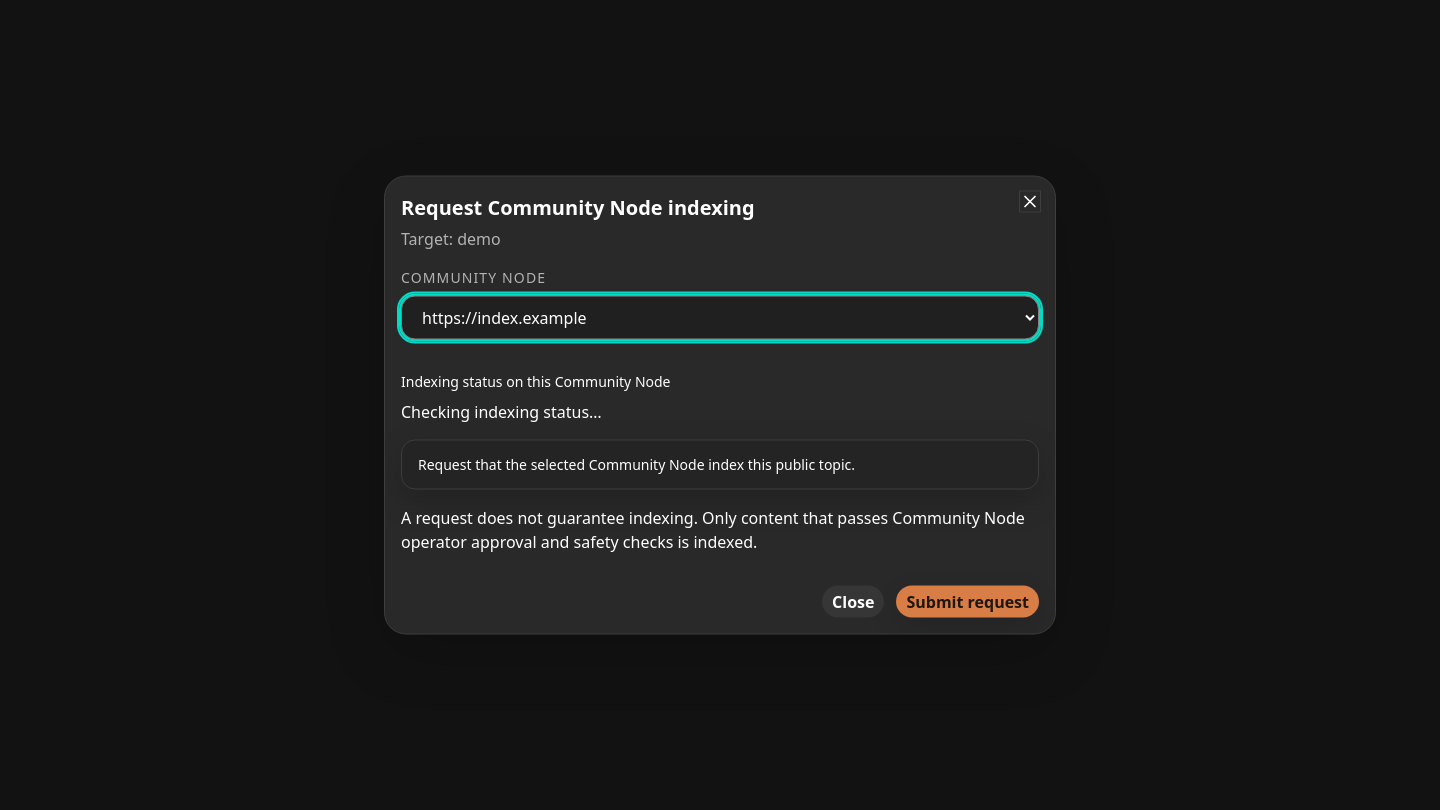
Test case: public topic request omits private channel confirmation and capability
Expected: the text "A request does not guarantee indexing" is shown, [401,506,1025,552]
Click the button "Submit request". click: (968, 602)
box: [896,586,1039,618]
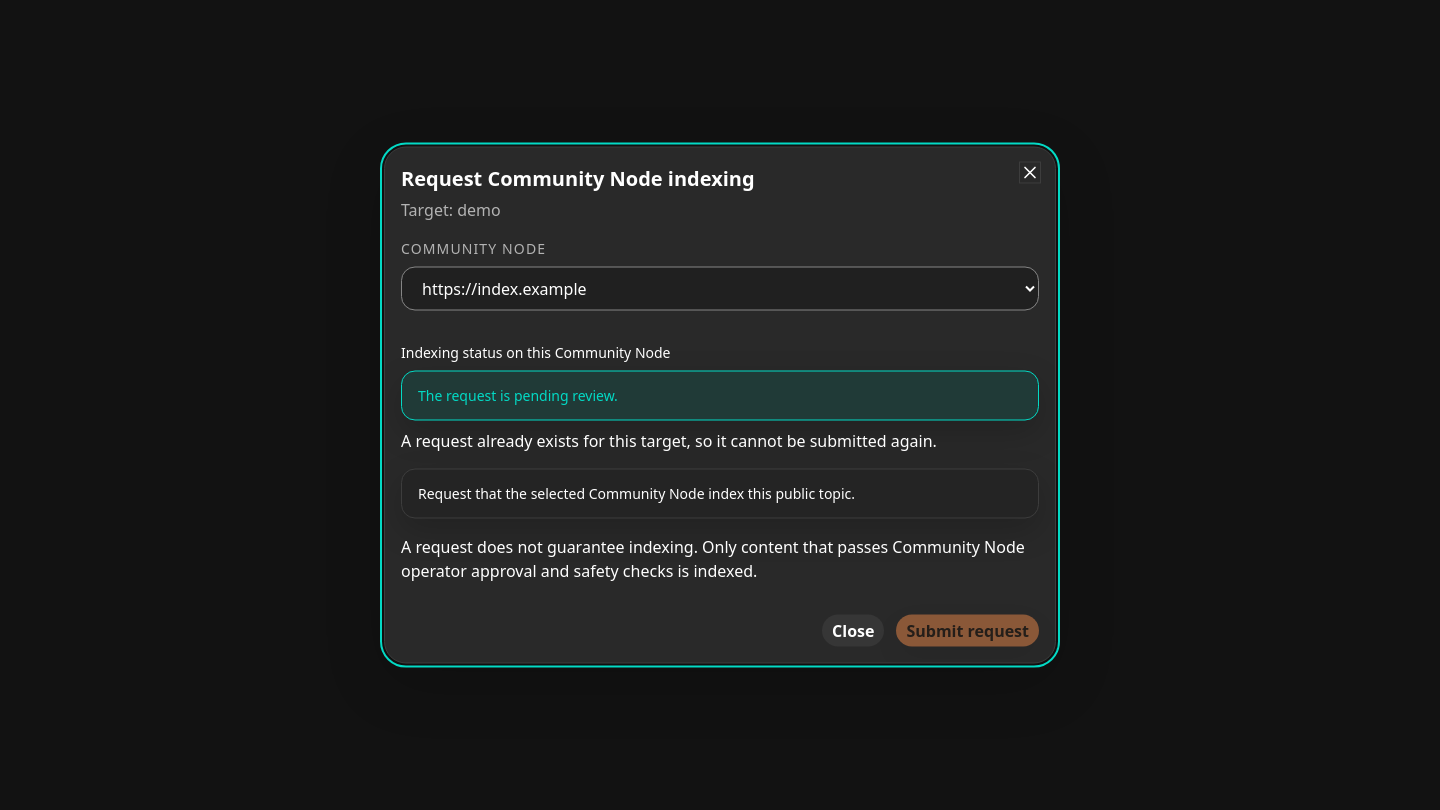
Result: the text "The request is pending review." is shown at [401,370,1039,420]
